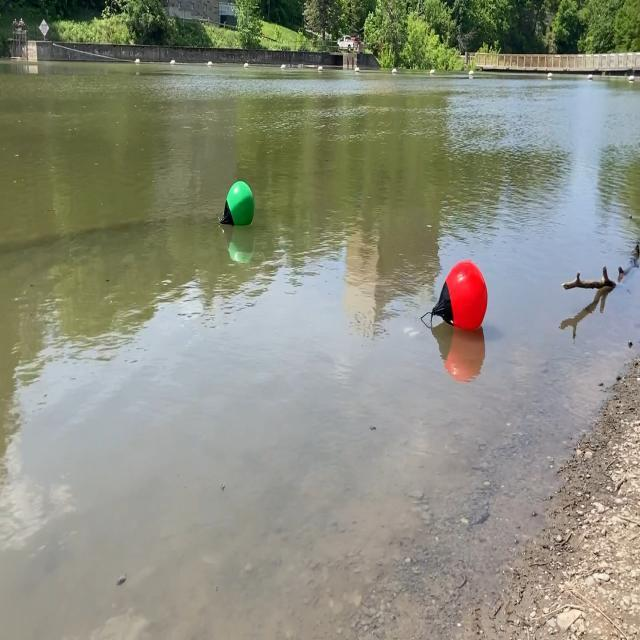buoy: (430, 258, 488, 334), (220, 180, 253, 228)
